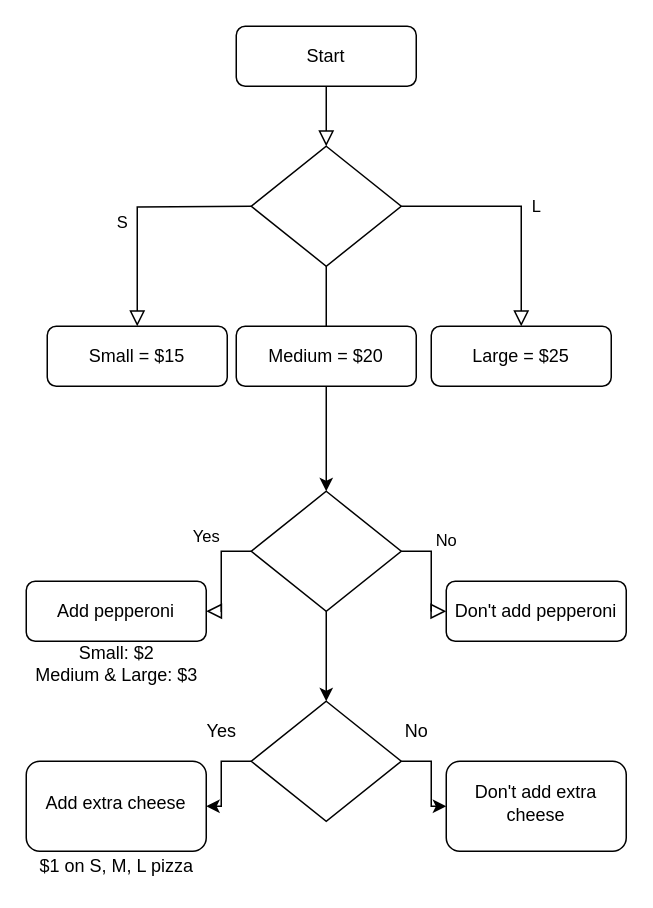
The diagram is 653 pixels wide and 908 high, and some of its shapes have lost their labels. The shapes that lost their labels are listed below. From the top down, each one's centre as x and y in pixels, then its label:
[325,205]: What size pizza do you want?
[325,550]: Do you want pepperoni?
[325,760]: Do you want extra cheese?
